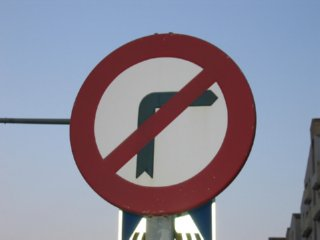No_right_turn: (70, 33, 257, 215)
